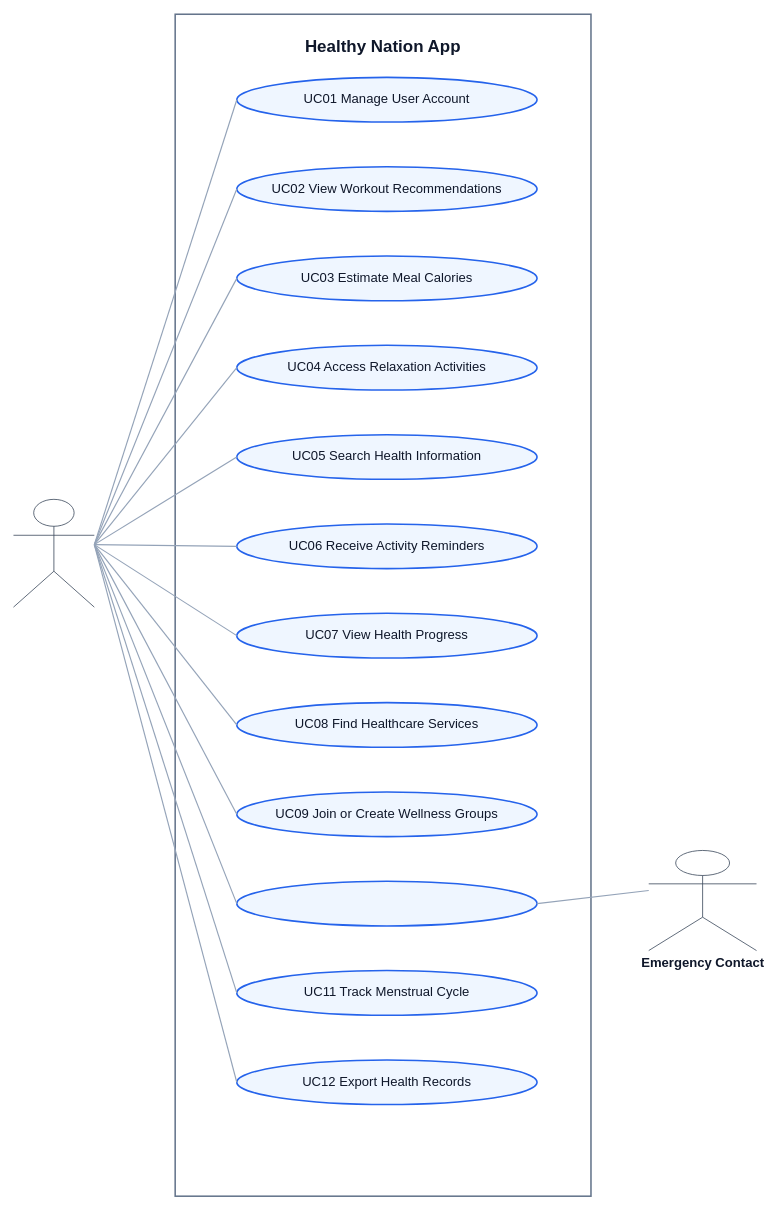
Some shapes in this 778 by 1210 pixel diagram are drawn without their labels. Each missing label, with the centre of its shape:
"UC10 Send Emergency SOS" goes at [386,903].
"User" goes at [53,553].
